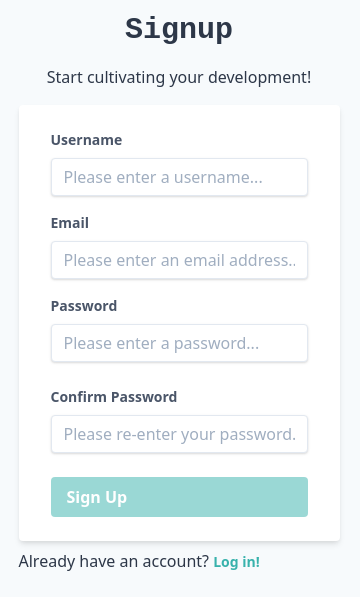
<SignupPage /> › should show inline error and disabled signup button for mismatched passwords
In the password field with test id "confirmPasswordInput": (179, 434) left=50, top=415, right=308, bottom=453, type "mismatch"
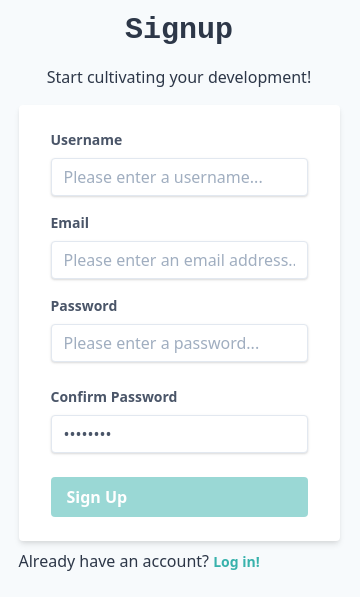
Leave the password field with test id "confirmPasswordInput", box left=50, top=415, right=308, bottom=453
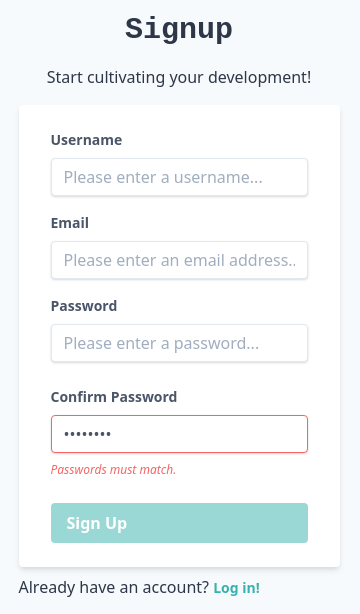
Expected: the button with test id "signupButton" is disabled, left=50, top=503, right=308, bottom=543
Result: the text "Passwords must match." is shown at left=50, top=461, right=176, bottom=478
